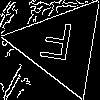F: (36, 20, 76, 70)
